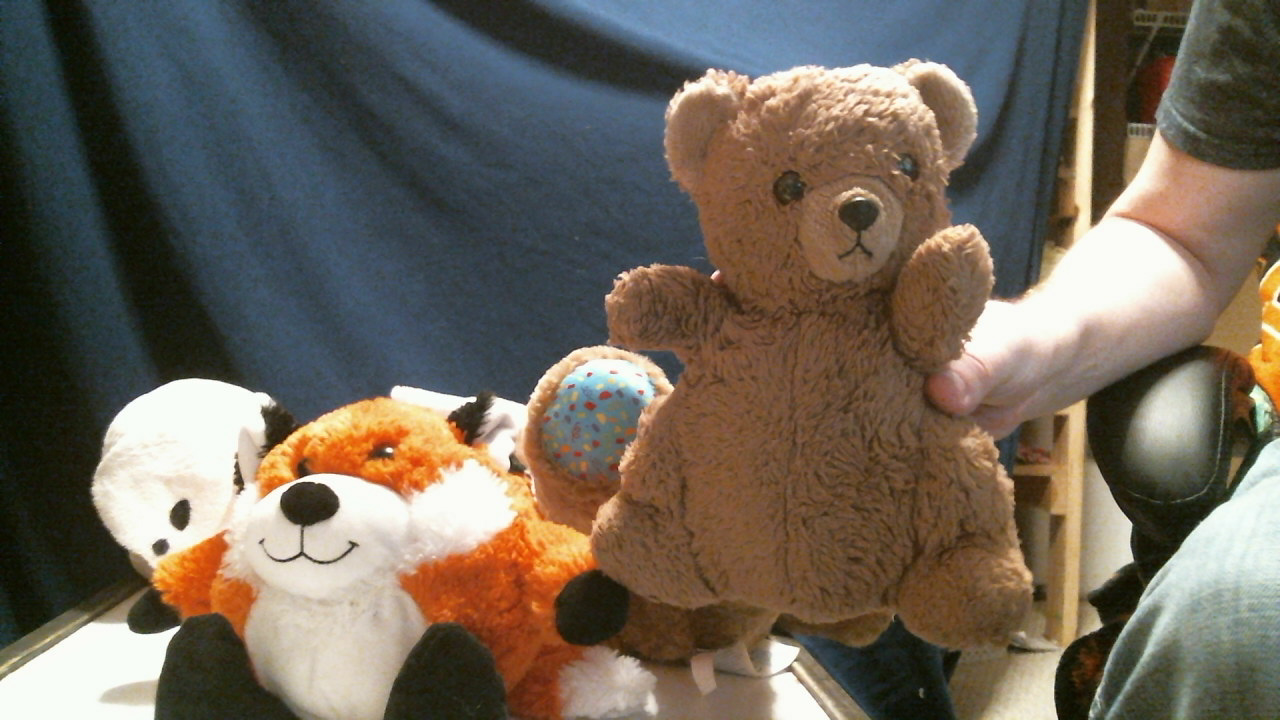Little_Mister_Bear: (749, 137, 935, 309)
